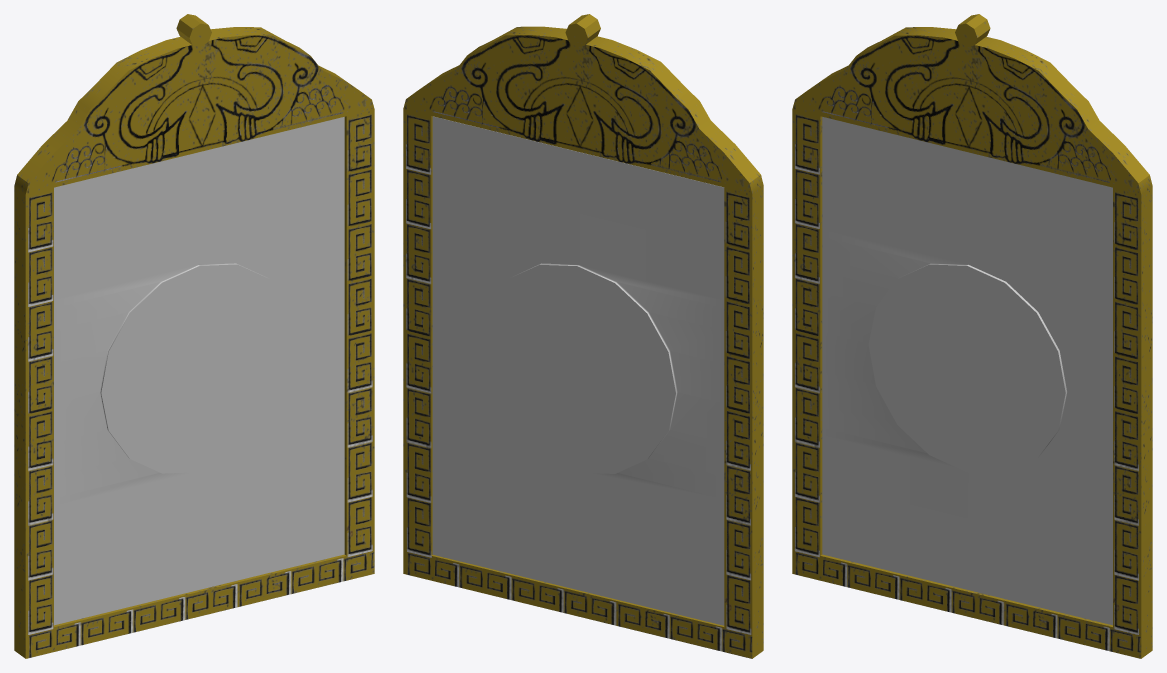
The model's file is AztecDoor.fbx.
3 views of the same model, side by side, from view 1: azimuth 30°, elevation 25°; view 2: azimuth 150°, elevation 25°; view 3: azimuth 330°, elevation 25° (orthographic).
Parts seen in each view (by area): view 1: polySurface1, pCube4, polySurface4; view 2: polySurface1, pCube4, polySurface4; view 3: polySurface1, pCube4, polySurface4.
Part boxes in pixels (<box>): polySurface1: <box>54,152,298,625</box>; pCube4: <box>14,14,374,658</box>; polySurface4: <box>198,117,344,589</box>; polySurface1: <box>478,152,724,625</box>; pCube4: <box>403,14,763,658</box>; polySurface4: <box>432,116,579,590</box>; polySurface1: <box>822,117,1066,589</box>; pCube4: <box>792,14,1152,658</box>; polySurface4: <box>968,152,1112,625</box>.
Size of the model in its own units: 17.53 by 28.49 by 1.13.
